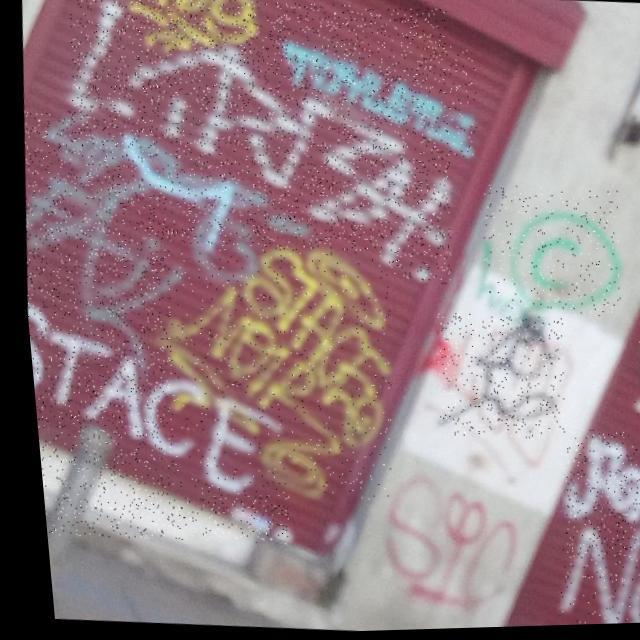-: (51, 0, 465, 295), (8, 102, 320, 373), (20, 287, 296, 551), (147, 238, 400, 508), (271, 34, 482, 168), (371, 464, 519, 622), (470, 184, 624, 323), (422, 312, 565, 445), (547, 428, 640, 568), (69, 0, 259, 61), (540, 518, 640, 628), (619, 398, 640, 476), (628, 343, 640, 406)
